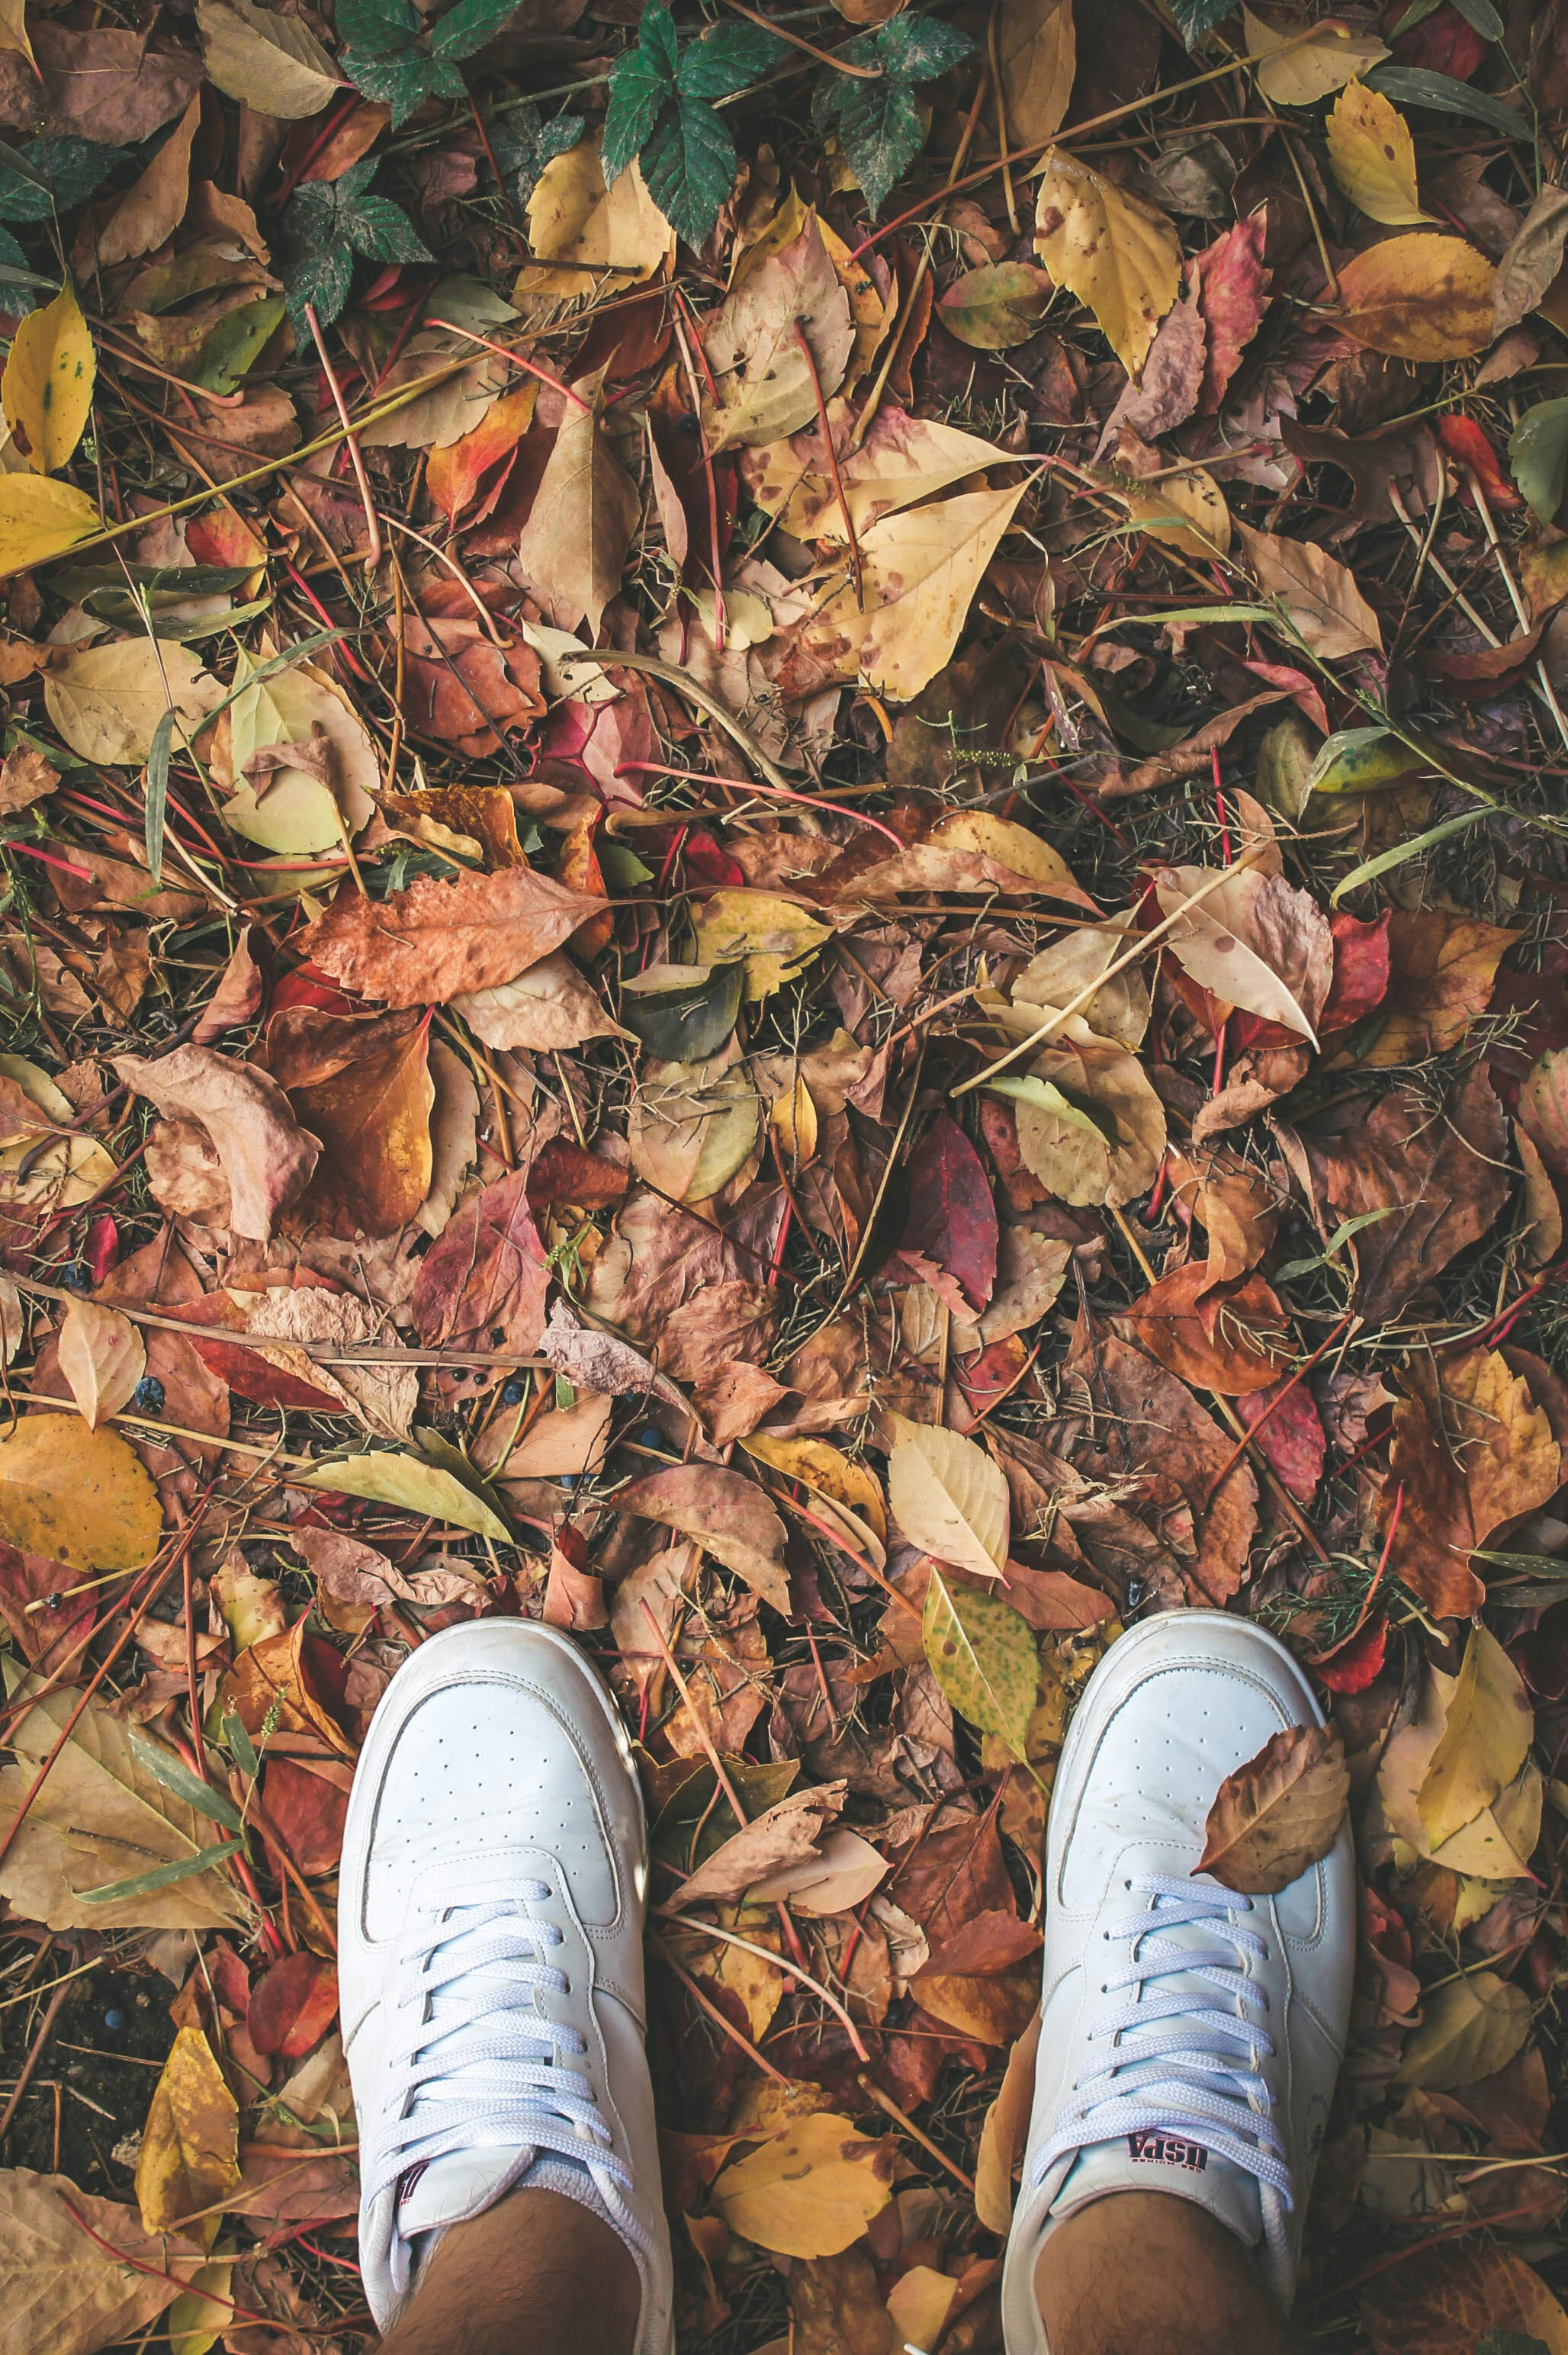Footwear: (338, 1606, 691, 2355), (992, 1601, 1347, 2339)
